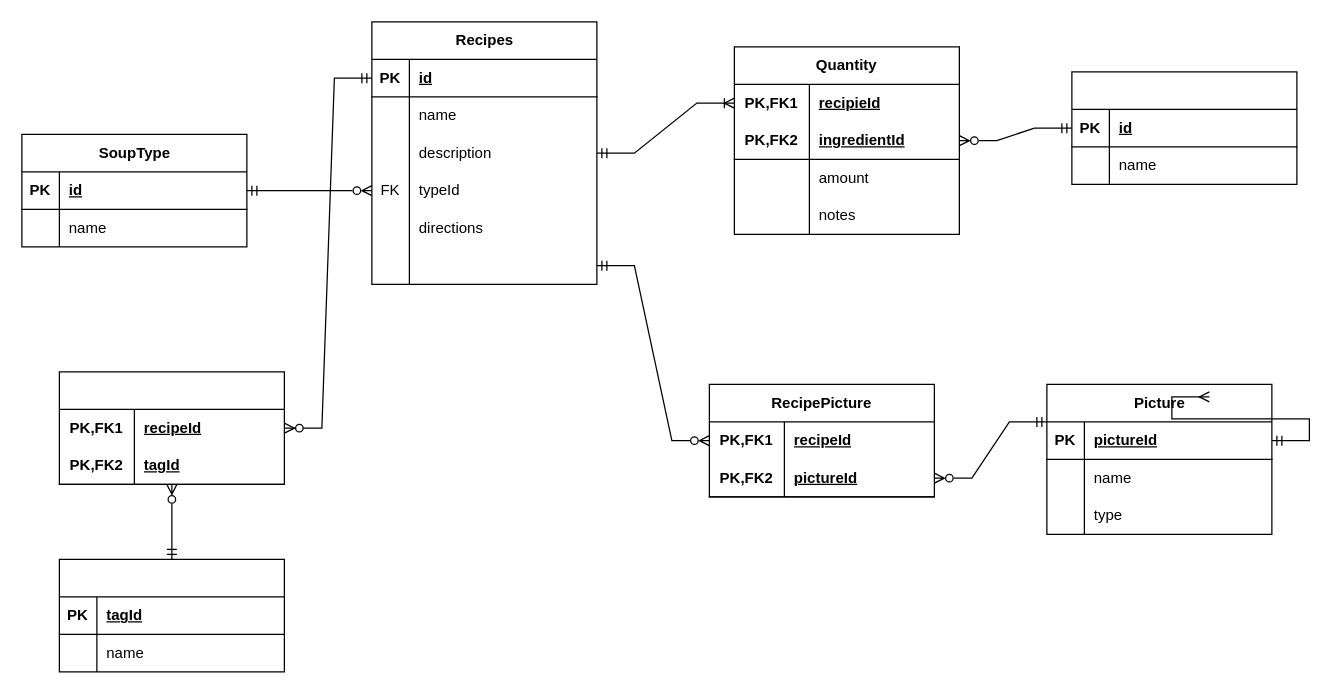
The diagram is 1343 pixels wide and 694 high, and some of its shapes have lost their labels. Here are the shapes that lost their labels. From the top down, the box of each, then its label:
(1071, 71, 1297, 184): Ingredient
(58, 371, 284, 484): RecipeTag
(58, 558, 284, 672): Tags
